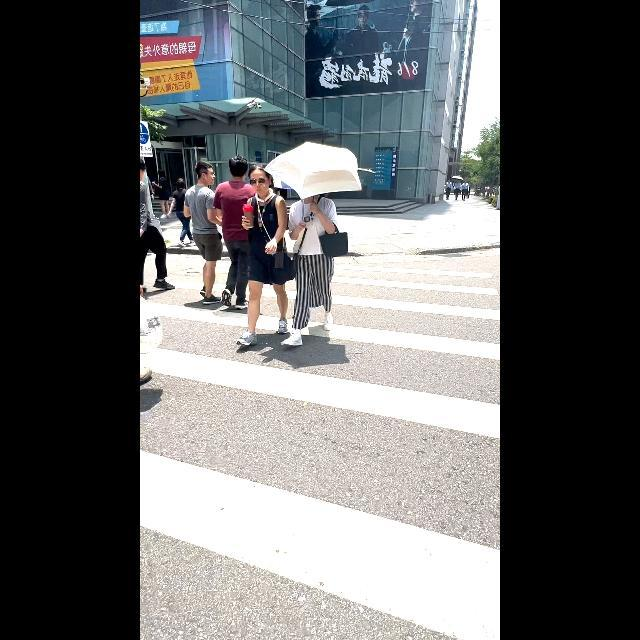sidewalk: (140, 247, 500, 640)
